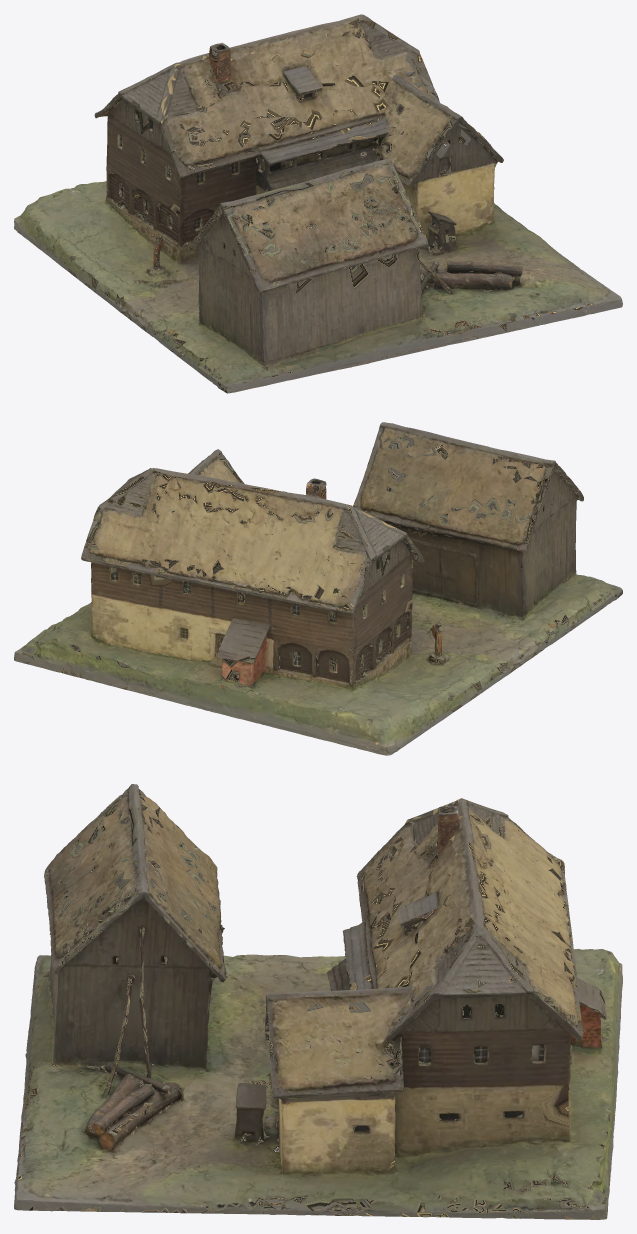
The model's file is country.glb.
The picture shows the model from 3 angles, top to bottom: view 1: azimuth 30°, elevation 25°; view 2: azimuth 150°, elevation 25°; view 3: azimuth 270°, elevation 25°; orthographic projection. The views are drawn at different scales.
Bounding box in the file's own units: 16.79 × 7.9 × 17.12.
2 materials, 2 textured.
